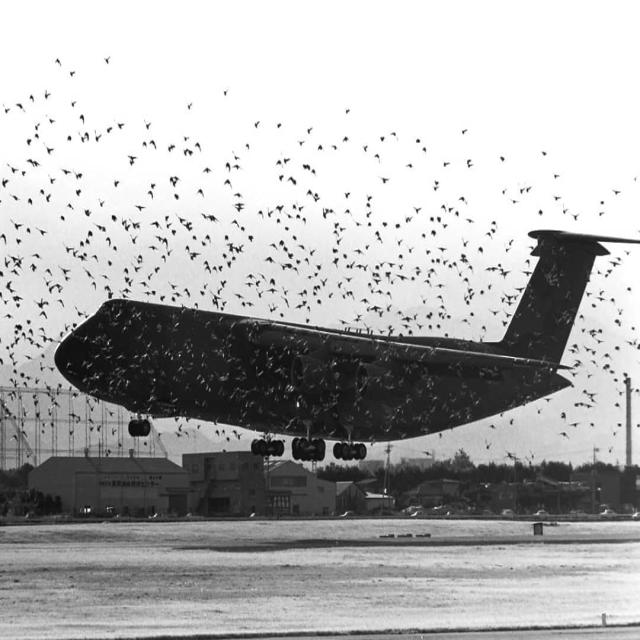MIL_Plane: (53, 224, 640, 456)
